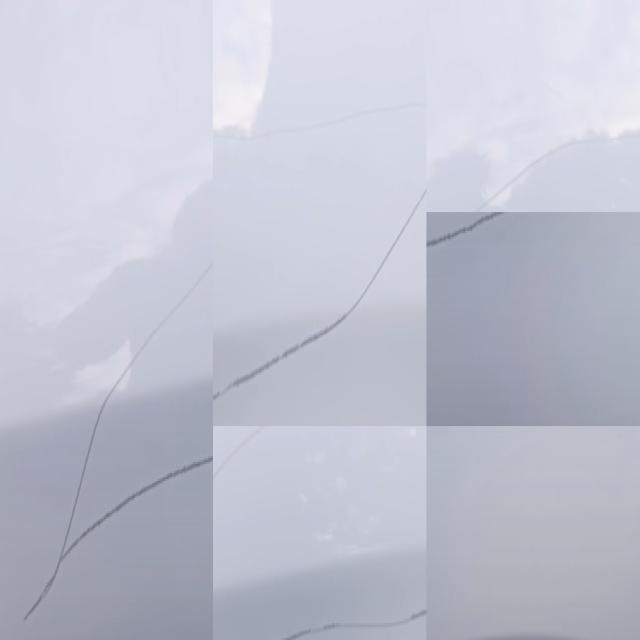crack: (231, 146, 421, 387), (430, 114, 640, 252), (92, 256, 197, 415), (70, 435, 199, 555), (289, 573, 425, 640)
